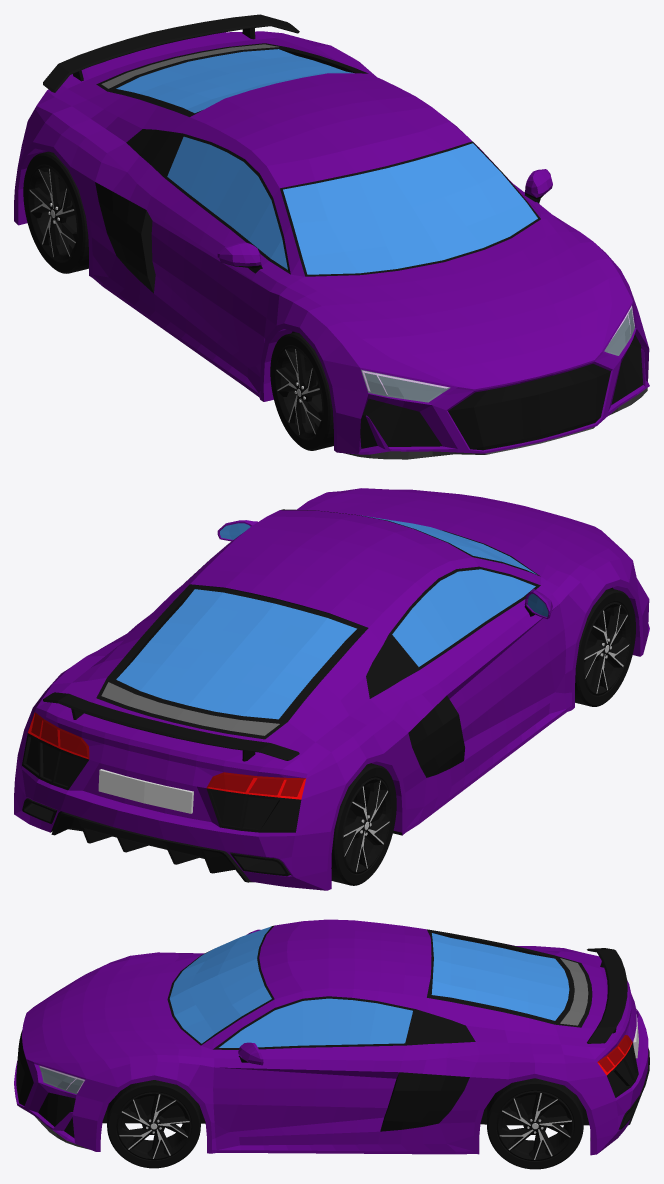
Rendered from r8-neu.glb.
3 views of the same model, one above another, from view 1: azimuth 30°, elevation 25°; view 2: azimuth 150°, elevation 25°; view 3: azimuth 270°, elevation 25° (orthographic). The views are drawn at different scales.
Parts seen in each view (by area): view 1: Cube, R8-RR, R8-FR; view 2: Cube, R8-RR, R8-FR; view 3: Cube, R8-RL, R8-FL.
Part boxes in pixels (box(x1,y1,x2,y2)): Cube: box(14, 14, 649, 459); R8-RR: box(23, 151, 88, 273); R8-FR: box(270, 332, 333, 450); Cube: box(14, 488, 649, 890); R8-RR: box(331, 763, 396, 885); R8-FR: box(575, 588, 635, 706); Cube: box(14, 919, 649, 1155); R8-RL: box(487, 1078, 583, 1169); R8-FL: box(107, 1080, 200, 1168).
Bounding box in the file's own units: 2.12 × 1.26 × 4.48.
